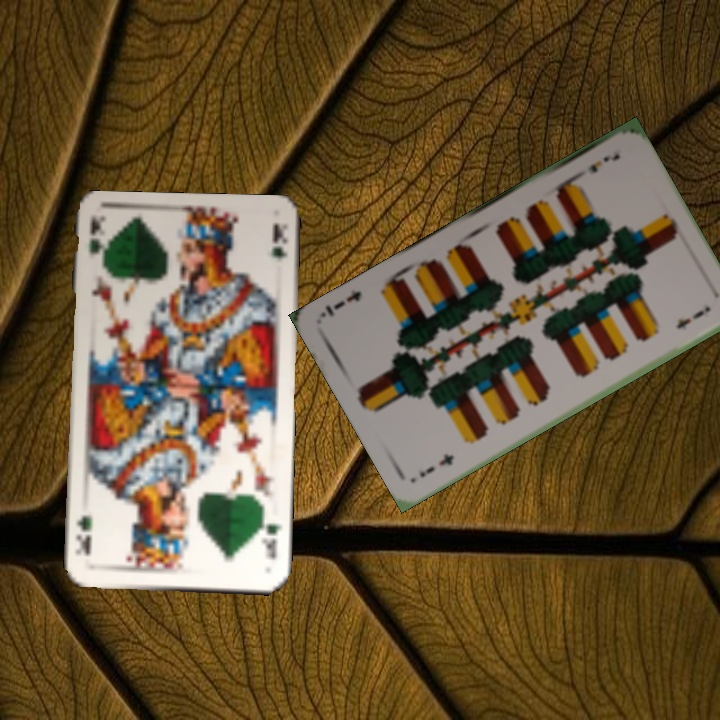E7: (571, 150, 623, 181), (415, 450, 457, 480)
GK: (257, 509, 284, 562), (84, 215, 106, 257)
